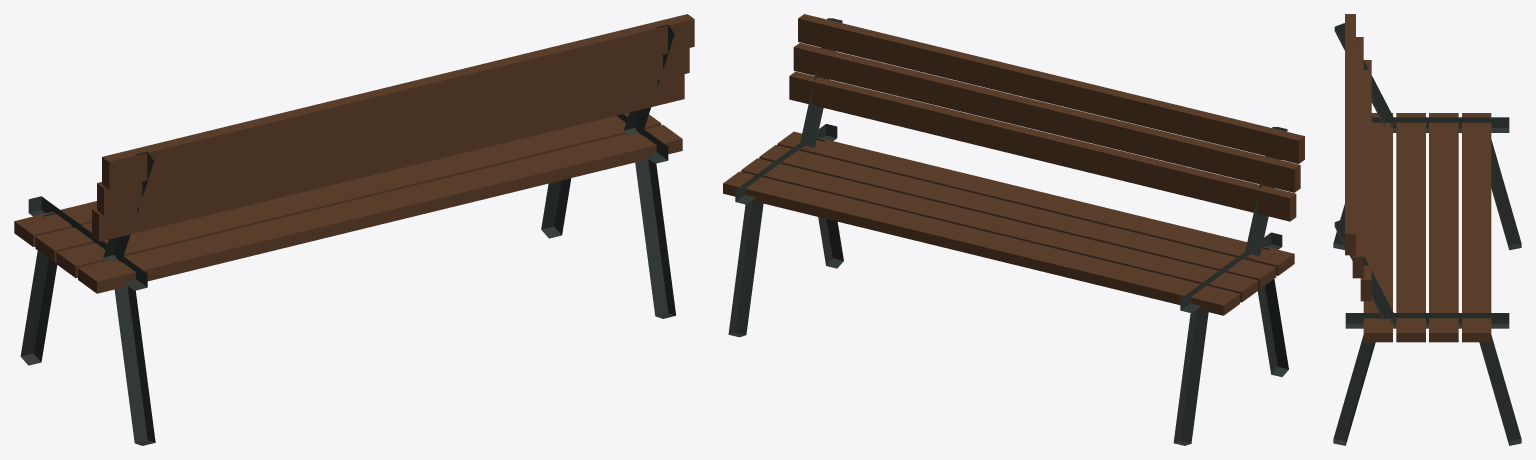
The picture shows the model from 3 angles, left to right: view 1: azimuth 30°, elevation 25°; view 2: azimuth 150°, elevation 25°; view 3: azimuth 270°, elevation 25°; orthographic projection. The views are drawn at different scales.
Parts seen in each view (by area): view 1: SW-L502; view 2: SW-L502; view 3: SW-L502.
Part boxes in pixels (x1,y1,x2,y2): SW-L502: (14, 14, 694, 445); SW-L502: (723, 14, 1304, 445); SW-L502: (1333, 14, 1521, 445).
Bounding box in the file's own units: 1.8 × 0.85 × 0.65.
